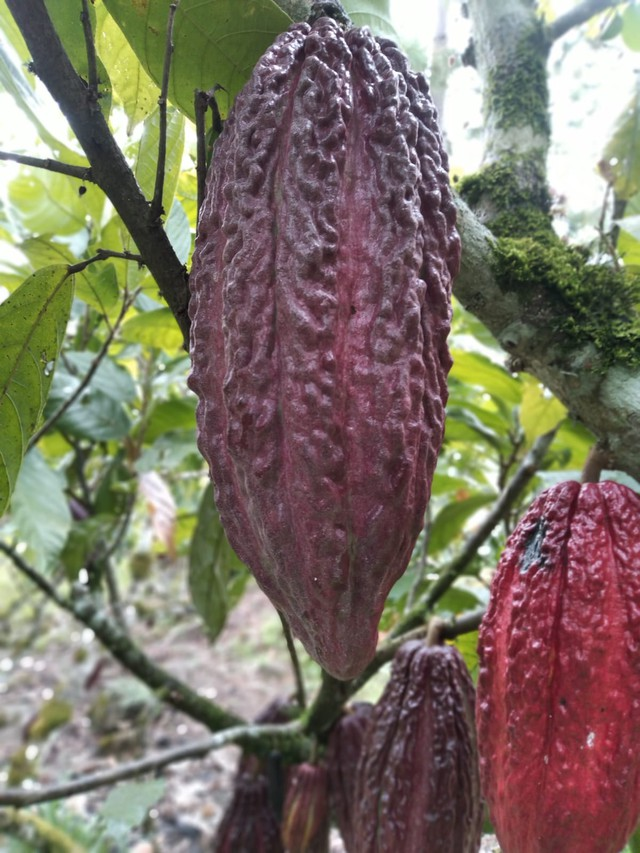Health: (178, 3, 474, 701)
